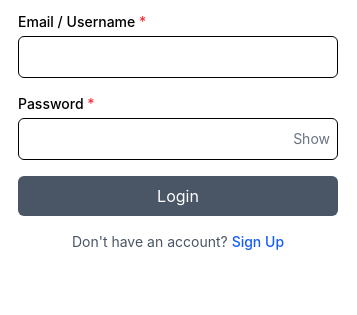
Test: LoginPage › shows required validation errors for empty fields
Click the button "Login": point(178, 196) [18,176,338,216]
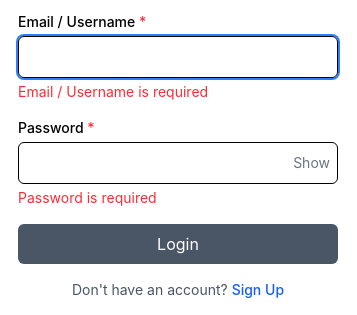
Check: the text "Email / Username is required" is shown, box [18,83,208,100]
Check: the text "Password is required" is shown, box [18,189,157,206]
